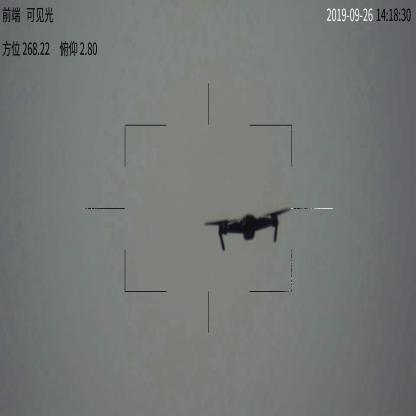uav: (204, 204, 293, 252)
